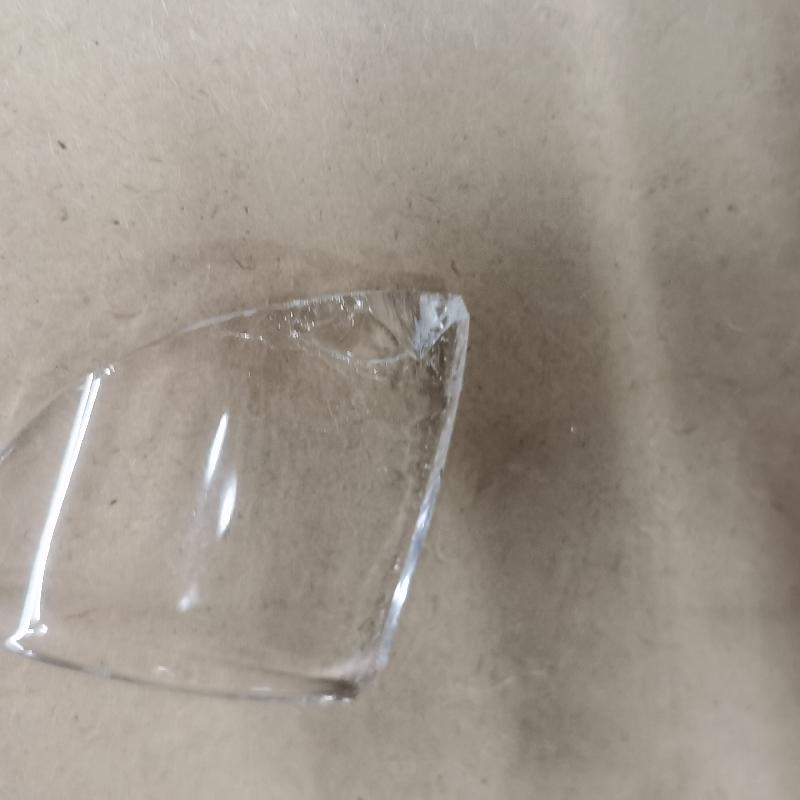glass: (2, 288, 471, 706)
